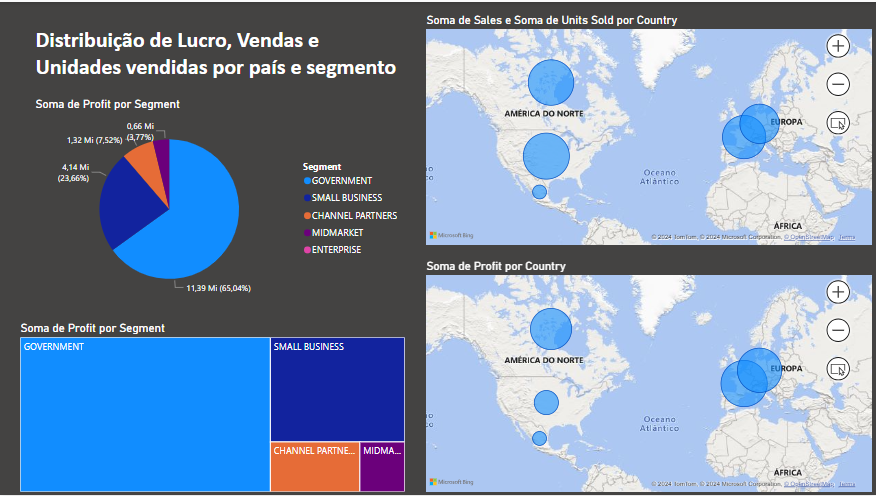

Layout of this report page (visuals, bound fields, positions):
{"tool":"powerbi","page":{"name":"Página 3","canvas":[1280,720],"ordinal":2},"visuals":[{"type":"pieChart","fields":{"Category":["financials.Segment"],"Y":["Sum(financials.Profit)"]},"box":[47.9,138.2,547.6,308.4],"z":0},{"type":"map","fields":{"Category":["financials.Country"],"Size":["Sum(financials. Sales)"]},"box":[618.7,16.5,661.3,343.7],"z":1000},{"type":"map","fields":{"Category":["financials.Country"],"Size":["Sum(financials.Profit)"]},"box":[618.7,375.3,661.3,345.1],"z":2000},{"type":"textbox","box":[47.9,30.6,549,99.7],"z":3000},{"type":"treemap","fields":{"Group":["financials.Segment"],"Values":["Sum(financials.Profit)"]},"box":[25.7,465.7,570.9,254.3],"z":4000}]}

Visuals, with their boxes in screenshot pixels (x1, y1, x2, y2), scaled from the page's 1280x720 canvas onto the 876x496 screenshot:
pieChart - financials.Segment x Sum(financials.Profit): <region>33, 95, 408, 308</region>
map - financials.Country x Sum(financials. Sales): <region>423, 11, 875, 248</region>
map - financials.Country x Sum(financials.Profit): <region>423, 259, 875, 495</region>
textbox: <region>33, 21, 409, 90</region>
treemap - financials.Segment x Sum(financials.Profit): <region>18, 321, 408, 495</region>
